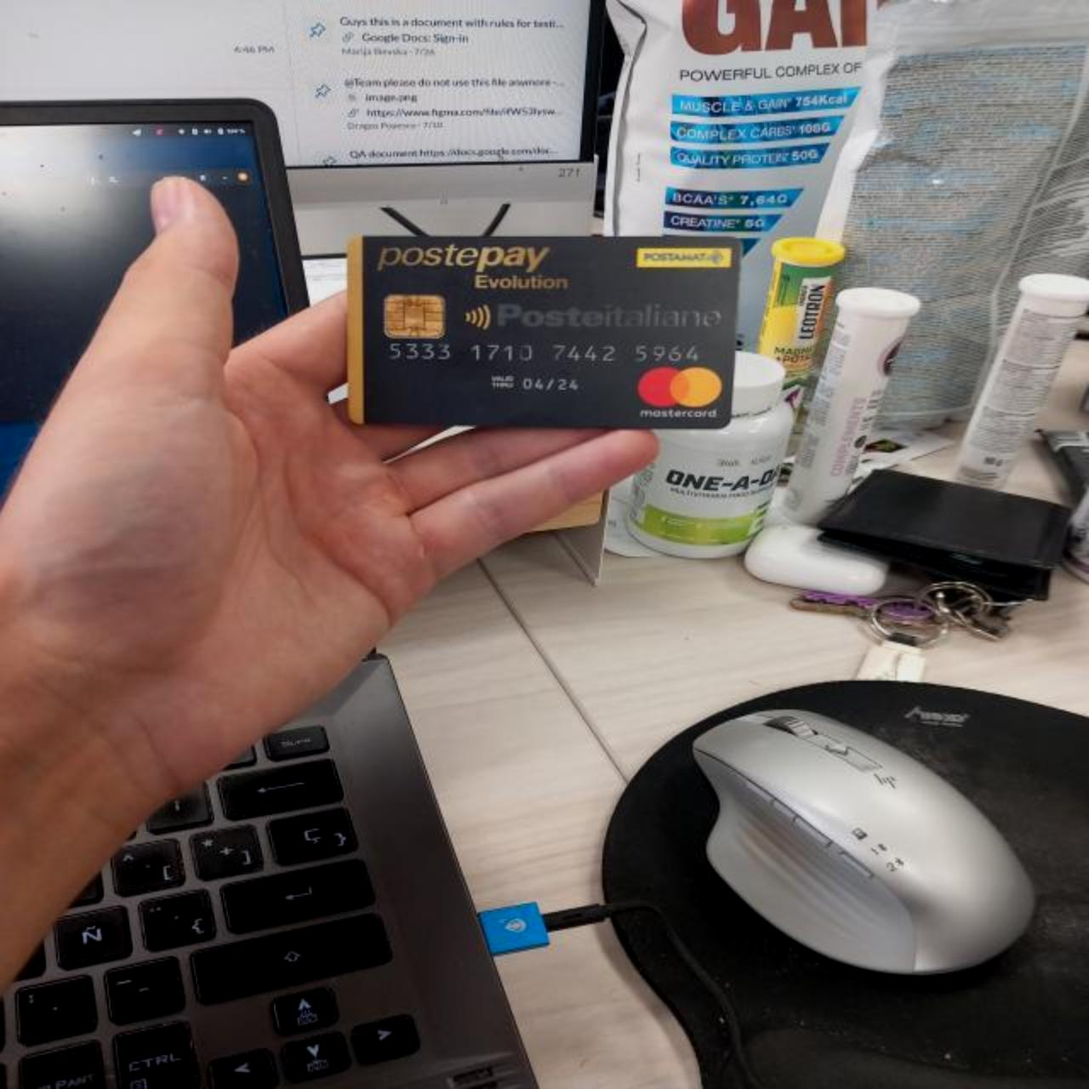credit_card: (345, 237, 735, 429)
